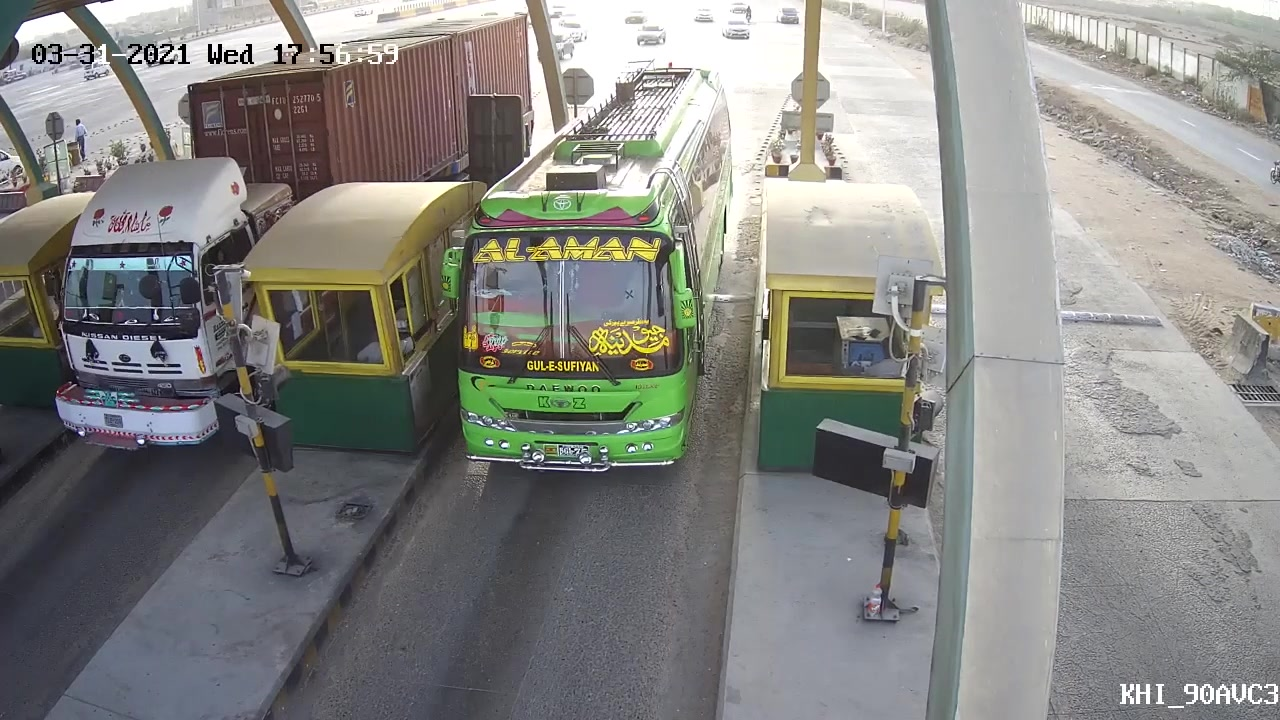F4: (437, 60, 739, 480)
